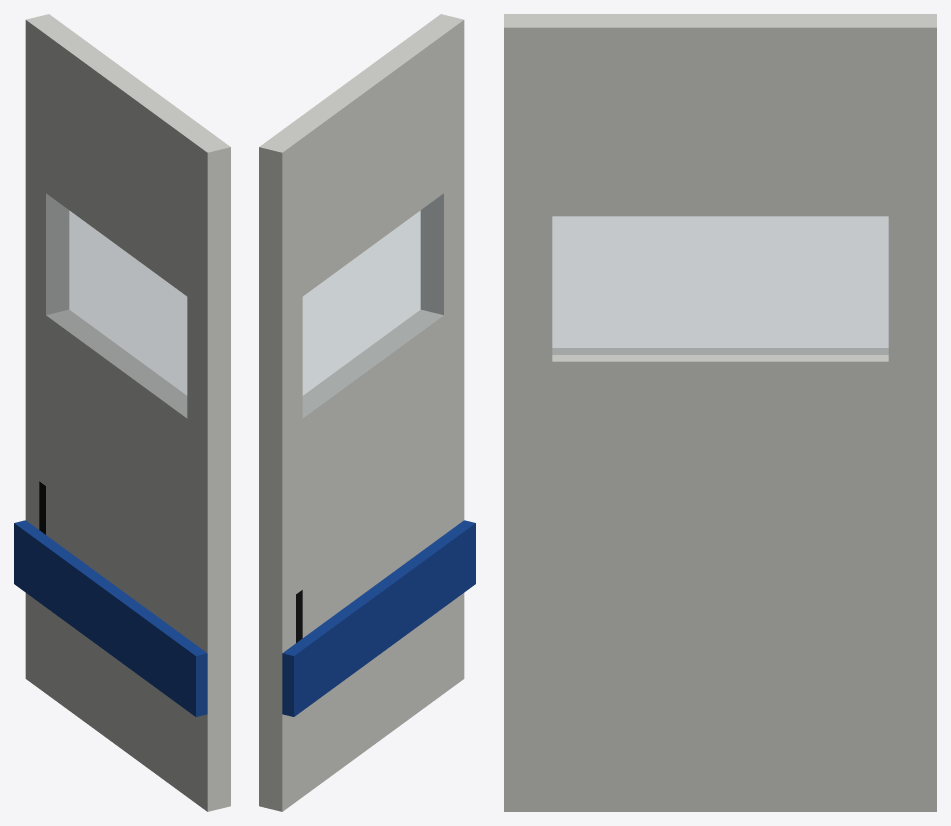
File: prisoner_van_rear_door.glb
3 views of the same model, side by side, from view 1: azimuth 30°, elevation 25°; view 2: azimuth 150°, elevation 25°; view 3: azimuth 270°, elevation 25° (orthographic). The views are drawn at different scales.
Parts seen in each view (by area): view 1: body:compound; view 2: body:compound; view 3: body:compound.
Boxes of the visible parts, x1=… form: body:compound: x1=14, y1=14, x2=230, y2=811; body:compound: x1=259, y1=14, x2=475, y2=811; body:compound: x1=504, y1=14, x2=936, y2=811.
Size of the model in its own units: 0.0938 by 1.69 by 0.8438.
